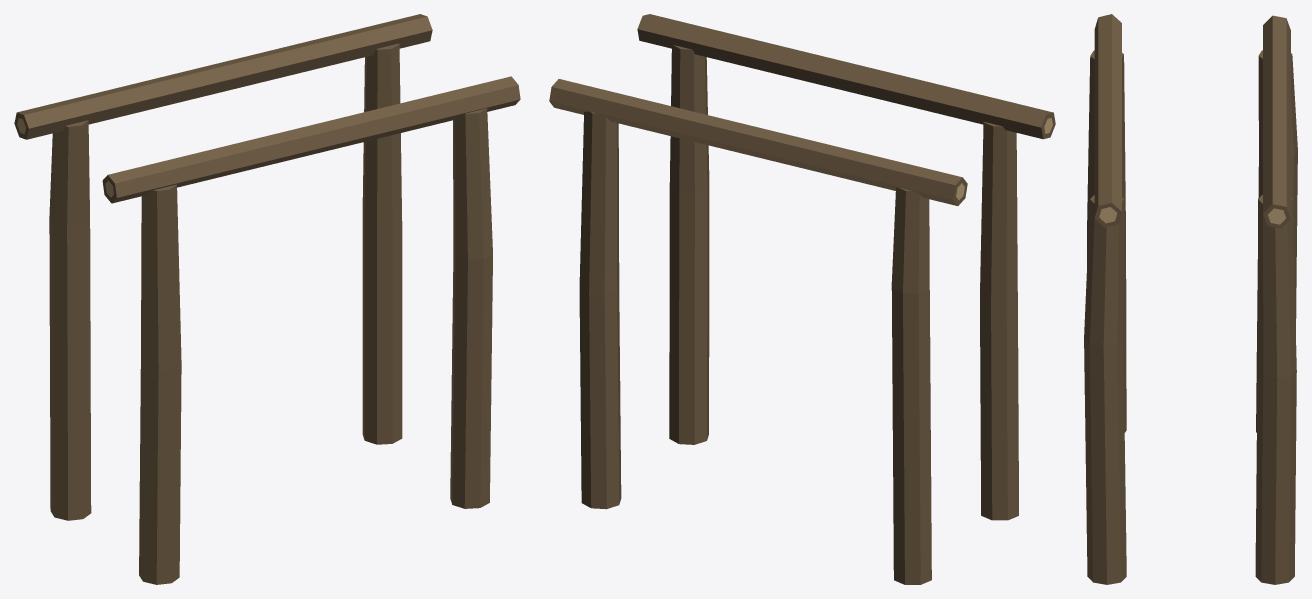
Rendered from rpgpp_ag_wall_platform_01_4x4_support_01a.fbx.
The picture shows the model from 3 angles, left to right: view 1: azimuth 30°, elevation 25°; view 2: azimuth 150°, elevation 25°; view 3: azimuth 270°, elevation 25°; orthographic projection. The views are drawn at different scales.
Visible parts, largest first — view 1: rpgpp_ag_wall_platform_01_4x4_support_01a; view 2: rpgpp_ag_wall_platform_01_4x4_support_01a; view 3: rpgpp_ag_wall_platform_01_4x4_support_01a.
Part boxes in pixels (bbox=[...]): rpgpp_ag_wall_platform_01_4x4_support_01a: bbox=[14, 14, 520, 584]; rpgpp_ag_wall_platform_01_4x4_support_01a: bbox=[549, 14, 1055, 584]; rpgpp_ag_wall_platform_01_4x4_support_01a: bbox=[1084, 14, 1297, 584].
Bounding box in the file's own units: 4 × 3.9 × 1.92.
